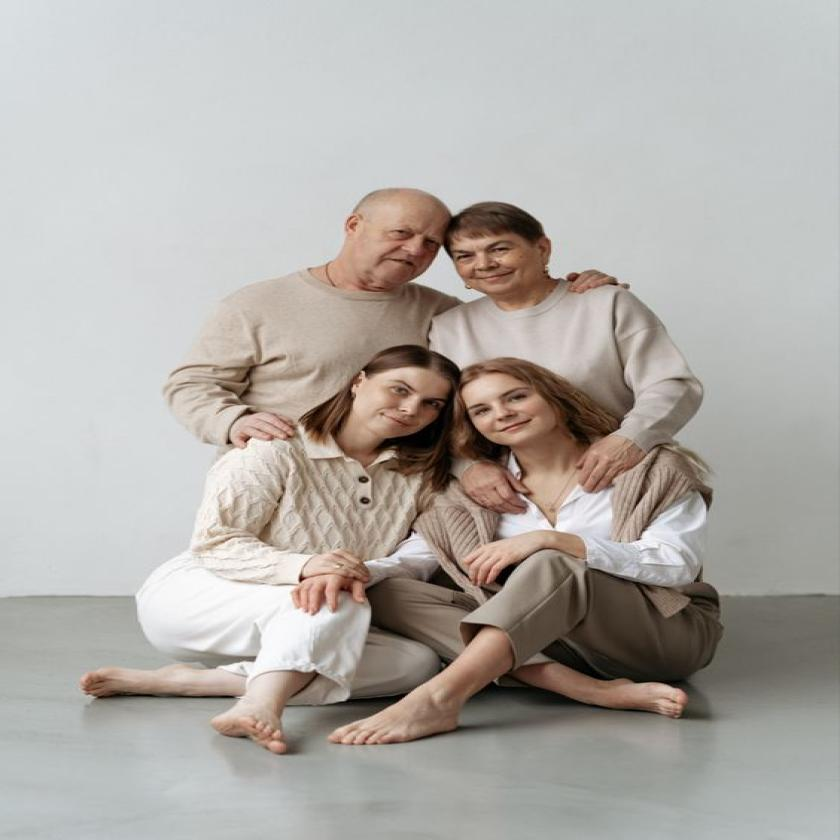Sin_casco: (352, 343, 467, 454), (452, 358, 570, 466), (339, 184, 449, 295), (443, 201, 555, 299)
